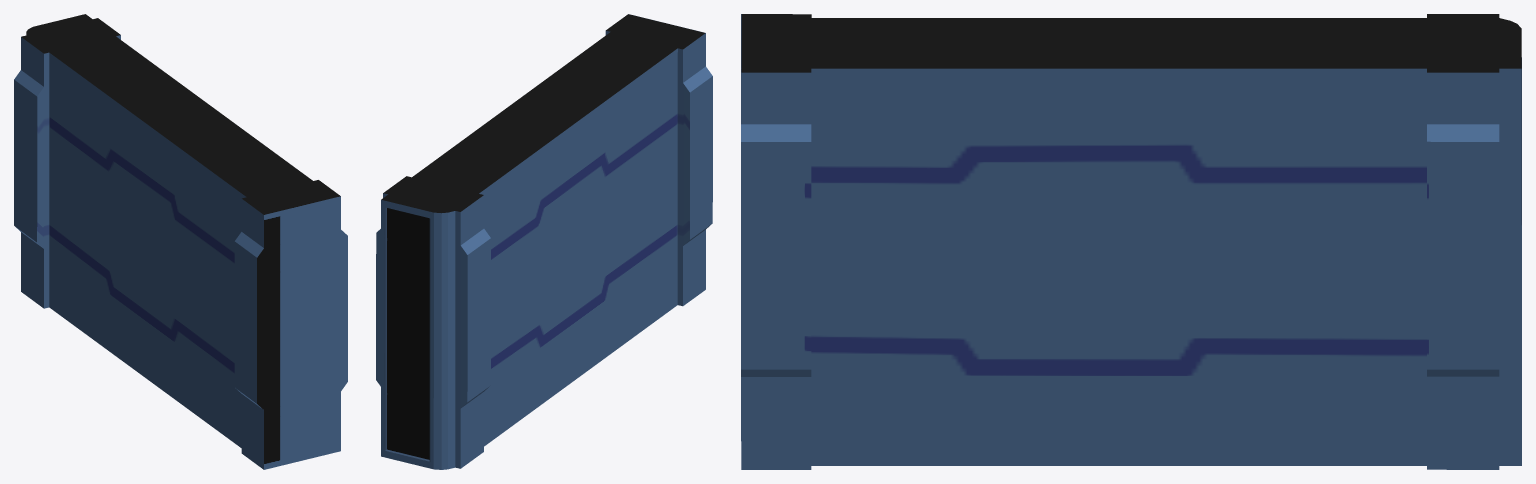
The model's file is 實驗室牆.fbx.
The picture shows the model from 3 angles, left to right: view 1: azimuth 30°, elevation 25°; view 2: azimuth 150°, elevation 25°; view 3: azimuth 270°, elevation 25°; orthographic projection. The views are drawn at different scales.
Parts seen in each view (by area): view 1: wall3__2_; view 2: wall3__2_; view 3: wall3__2_.
Part boxes in pixels (<box>): wall3__2_: <box>14,14,347,469</box>; wall3__2_: <box>376,14,712,469</box>; wall3__2_: <box>741,14,1521,469</box>.
Bounding box in the file's own units: 219 × 588 × 1047.
